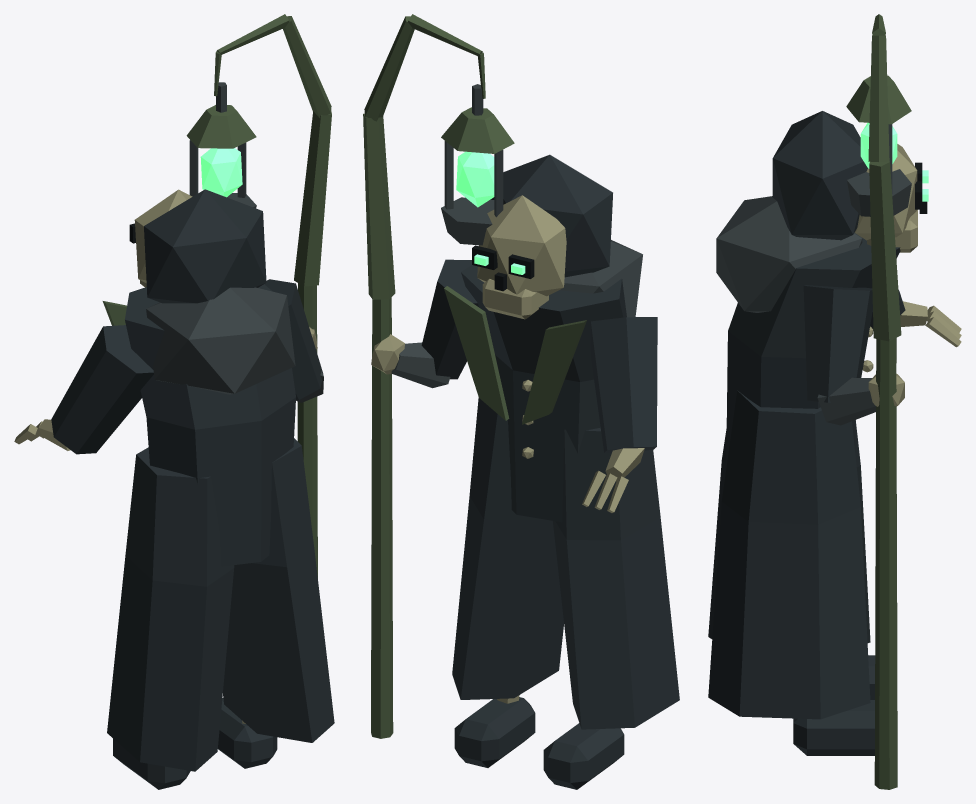
File: grave_mender.glb
The picture shows the model from 3 angles, left to right: view 1: azimuth 30°, elevation 25°; view 2: azimuth 150°, elevation 25°; view 3: azimuth 270°, elevation 25°; orthographic projection. The views are drawn at different scales.
Parts seen in each view (by area): view 1: grave_mender; view 2: grave_mender; view 3: grave_mender.
Boxes of the visible parts, x1=… form: grave_mender: x1=14, y1=14, x2=334, y2=789; grave_mender: x1=363, y1=14, x2=679, y2=789; grave_mender: x1=708, y1=14, x2=961, y2=789.
Bounding box in the file's own units: 0.95 × 2.3 × 0.7.
